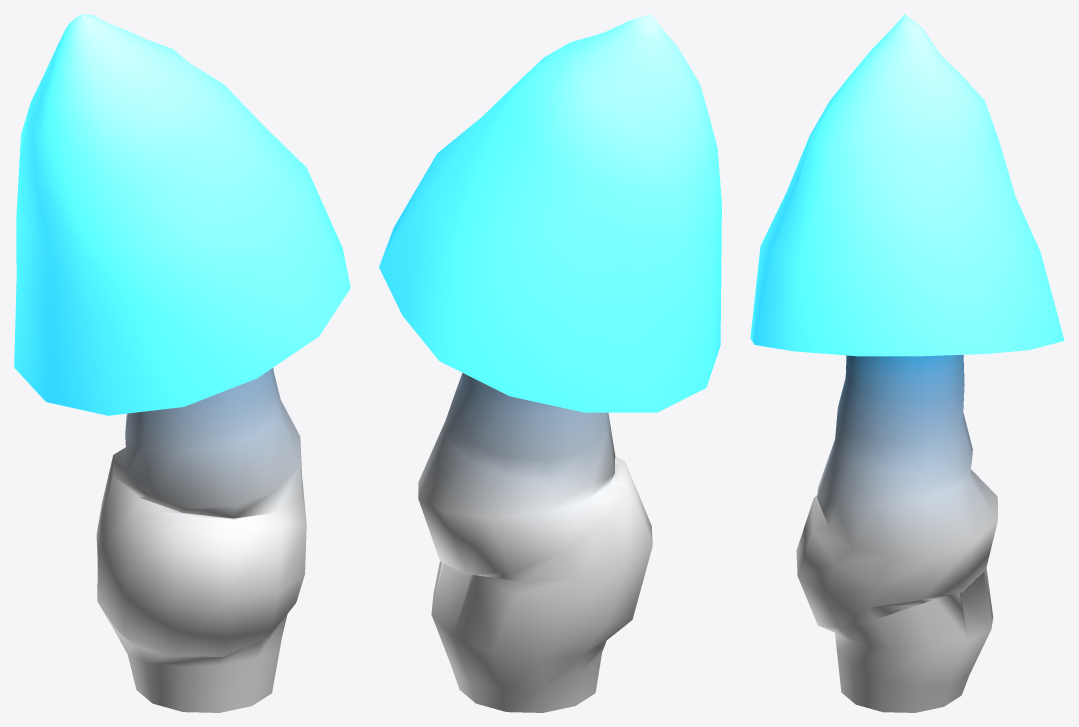
Rendered from mushroom_5.glb.
3 renders of one model, left to right at view 1: azimuth 30°, elevation 25°; view 2: azimuth 150°, elevation 25°; view 3: azimuth 270°, elevation 25°, orthographic. The views are drawn at different scales.
Visible parts, largest first — view 1: geo1; view 2: geo1; view 3: geo1.
Boxes of the visible parts, x1,y1,x2,y2 form: geo1: [14, 14, 350, 712]; geo1: [379, 14, 721, 712]; geo1: [750, 14, 1064, 712].
Size of the model in its own units: 0.1716 by 0.3858 by 0.1773.
